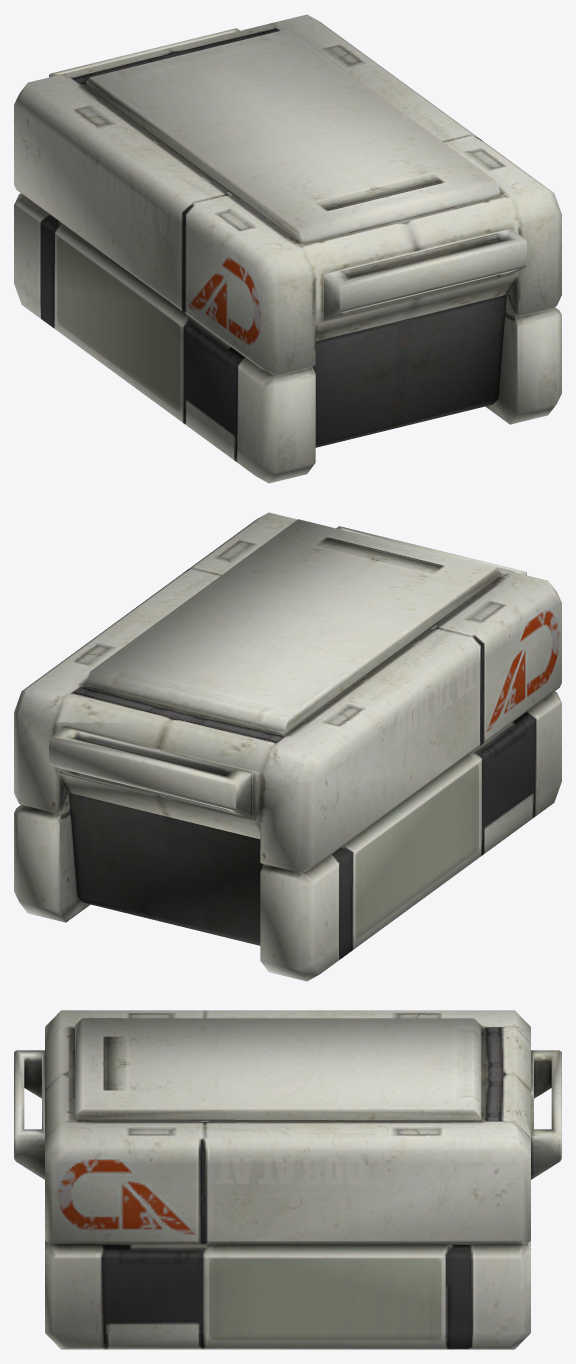
The model's file is Crate_XLarge_01.FBX.
3 views of the same model, one above another, from view 1: azimuth 30°, elevation 25°; view 2: azimuth 150°, elevation 25°; view 3: azimuth 270°, elevation 25° (orthographic). The views are drawn at different scales.
Parts seen in each view (by area): view 1: Crate_XLarge_01; view 2: Crate_XLarge_01; view 3: Crate_XLarge_01.
Boxes of the visible parts, x1=… form: Crate_XLarge_01: x1=14, y1=14, x2=561, y2=483; Crate_XLarge_01: x1=14, y1=512, x2=561, y2=981; Crate_XLarge_01: x1=14, y1=1010, x2=561, y2=1349.
Bounding box in the file's own units: 1 × 0.7558 × 1.69.
